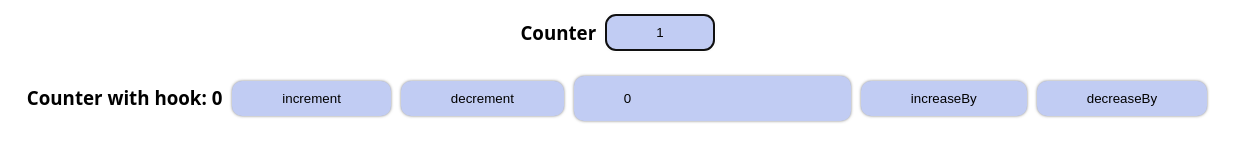
Test: counter page › example input test
Step 1. Type "123" into the number field named "value" → (712, 98), box [574,76,851,121]
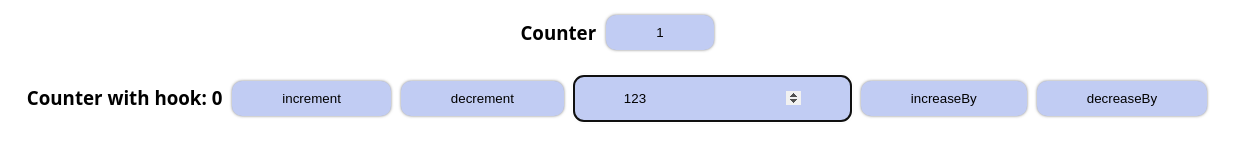
Step 2. Click the button "increaseBy" → (944, 98), box [861,81,1027,116]
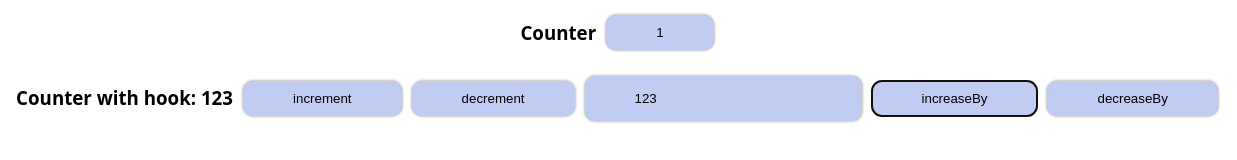
expect the heading "Counter with hook: 0" reads "Counter with hook: 123": met, box [16,84,233,112]
